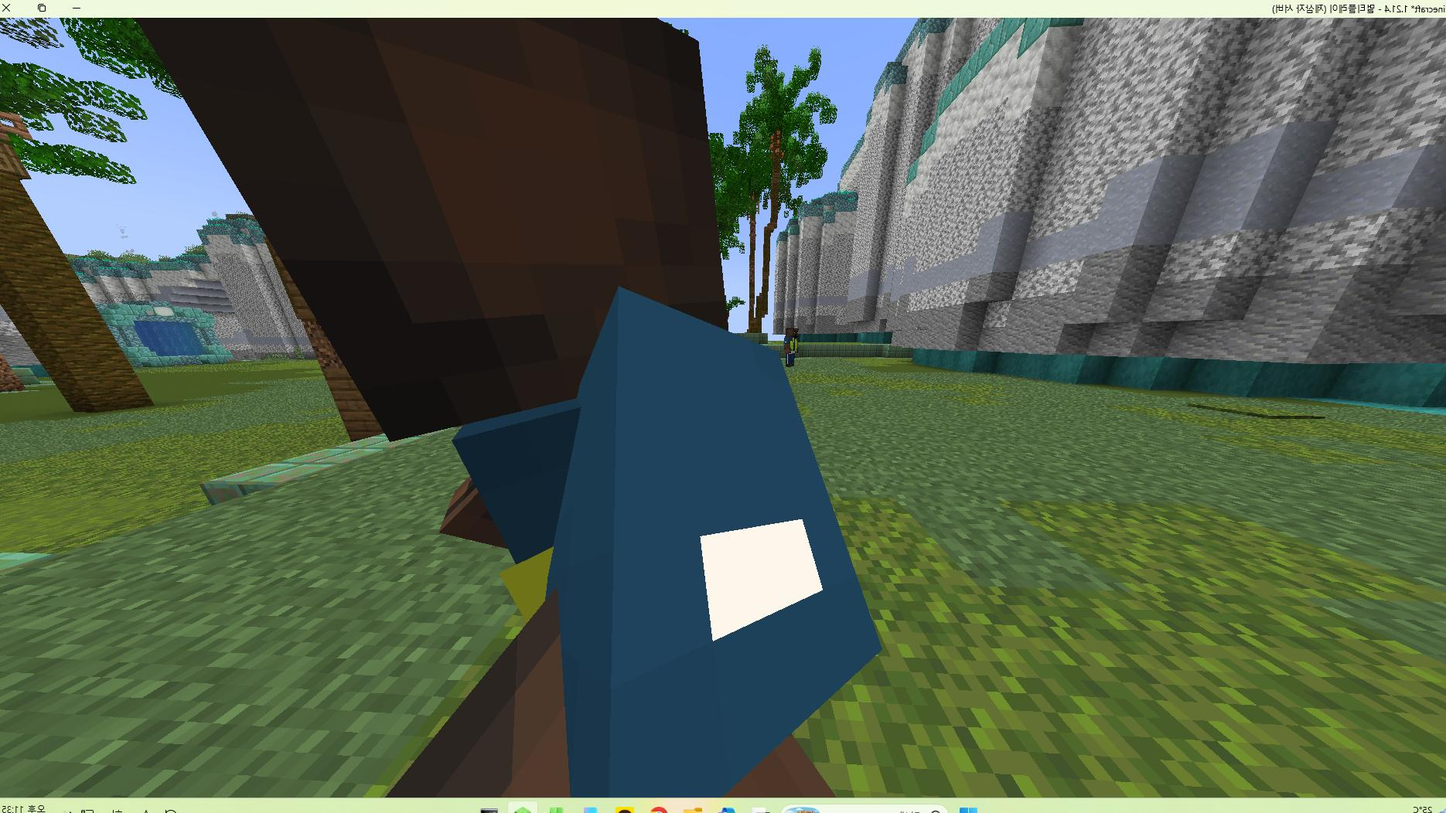Guardian: (140, 18, 880, 791)
